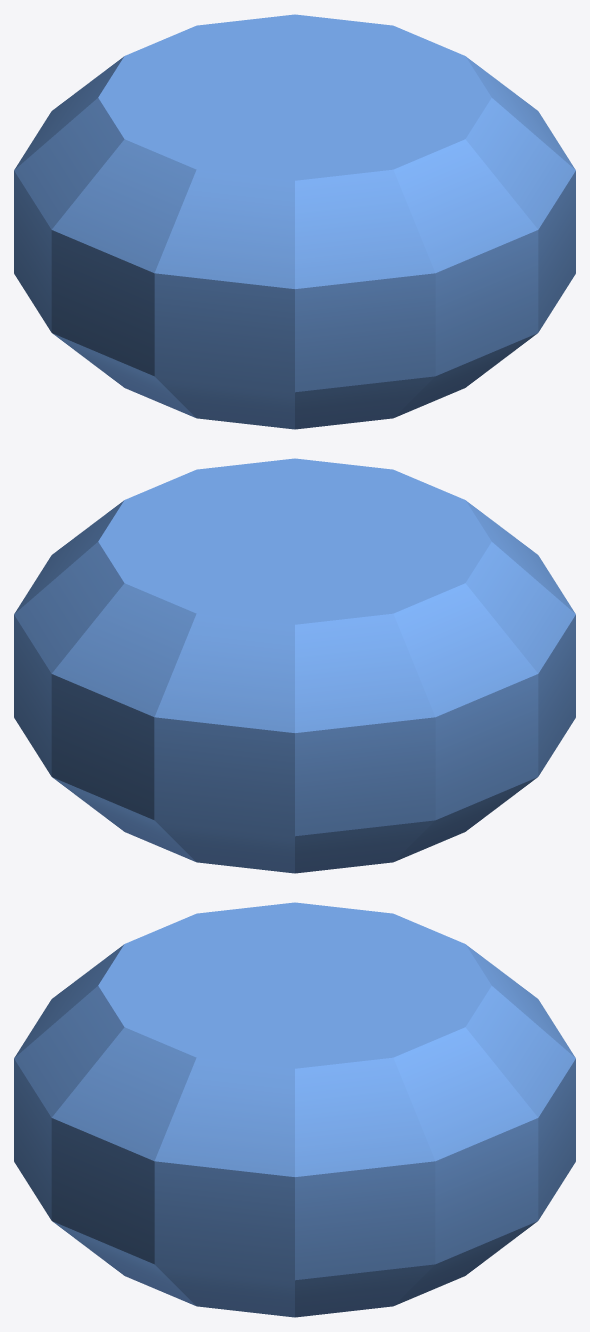
Rendered from Crystal006.fbx.
The picture shows the model from 3 angles, top to bottom: view 1: azimuth 30°, elevation 25°; view 2: azimuth 150°, elevation 25°; view 3: azimuth 270°, elevation 25°; orthographic projection.
Visible parts, largest first — view 1: Crystal006; view 2: Crystal006; view 3: Crystal006.
Part boxes in pixels (<box>): Crystal006: <box>14,14,575,429</box>; Crystal006: <box>14,458,575,873</box>; Crystal006: <box>14,902,575,1317</box>.
Size of the model in its own units: 84.61 by 41.32 by 84.61.
